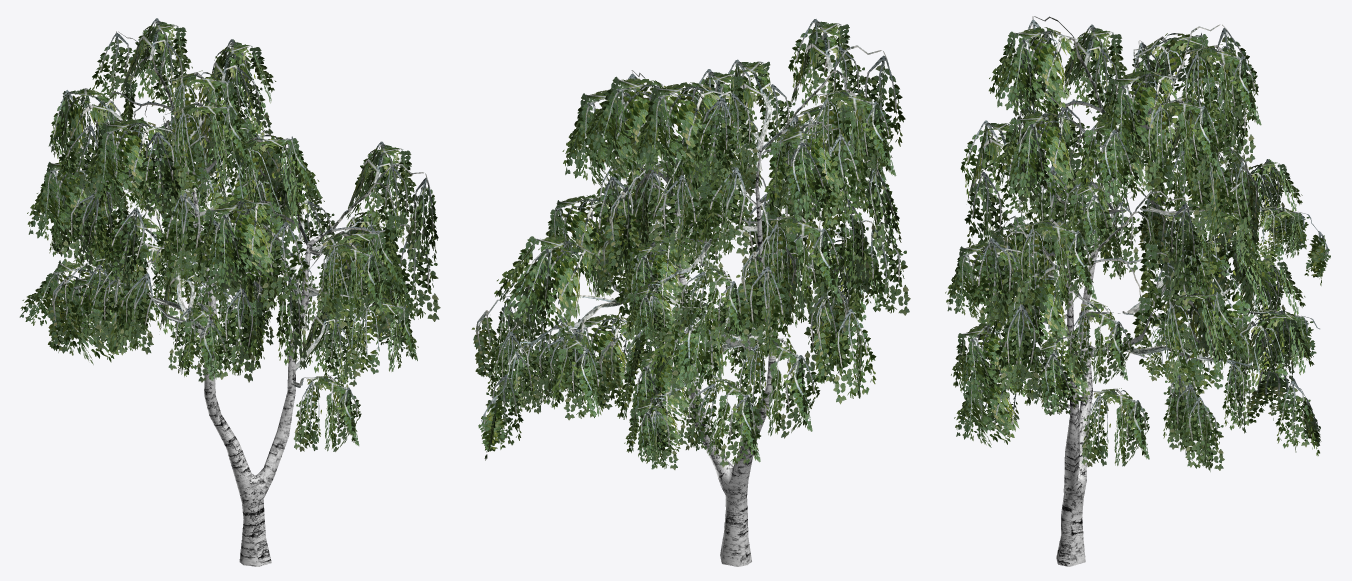
The model's file is birch.gltf.
3 views of the same model, side by side, from view 1: azimuth 30°, elevation 25°; view 2: azimuth 150°, elevation 25°; view 3: azimuth 270°, elevation 25° (orthographic). The views are drawn at different scales.
Parts seen in each view (by area): view 1: 枫树08; view 2: 枫树08; view 3: 枫树08.
Boxes of the visible parts, <box> form: 枫树08: <box>19,18,440,566</box>; 枫树08: <box>471,19,910,566</box>; 枫树08: <box>945,16,1330,566</box>.
Bounding box in the file's own units: 5.68 × 7.93 × 5.65.
2 materials, 2 textured.
